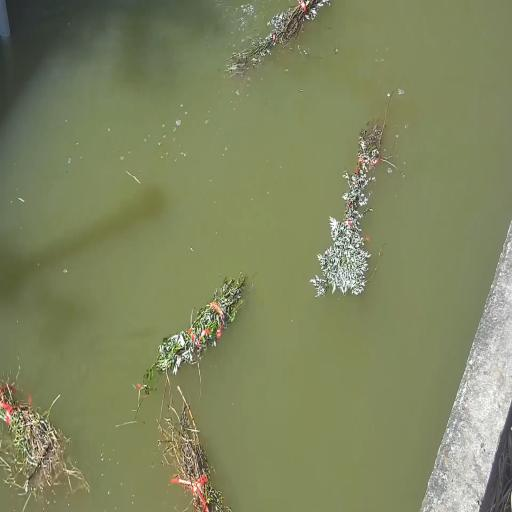twig: (310, 87, 397, 301), (134, 270, 249, 420), (0, 356, 92, 512), (157, 353, 232, 512), (222, 0, 331, 81)
